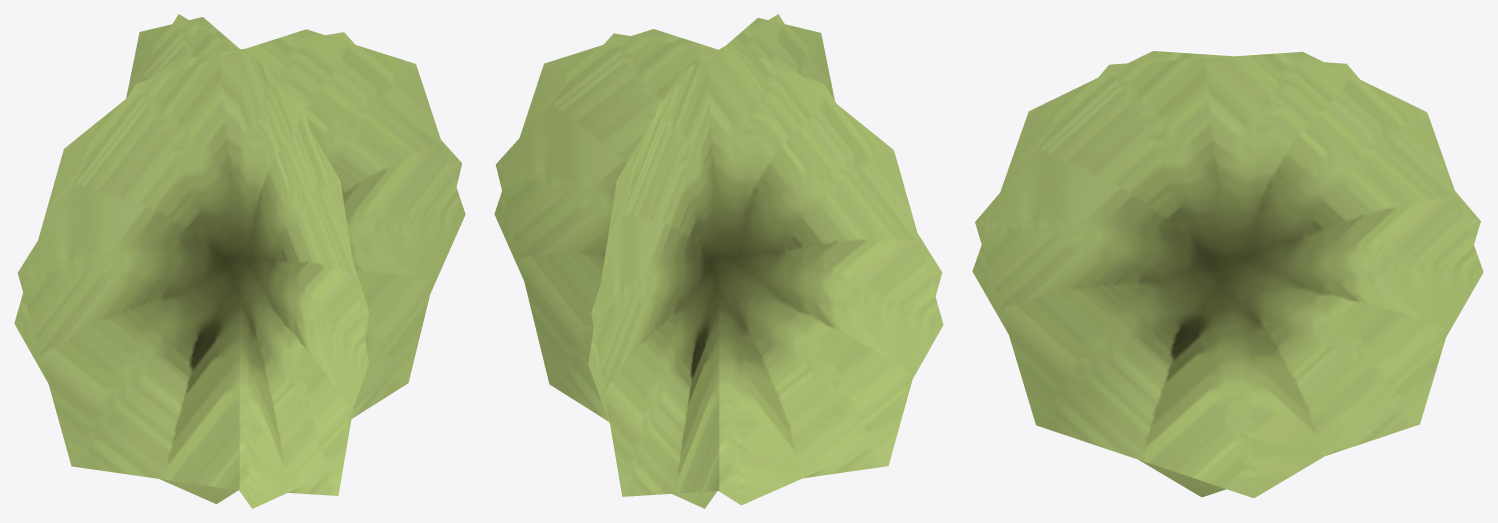
Rendered from HP3_weed022.fbx.
3 renders of one model, left to right at view 1: azimuth 30°, elevation 25°; view 2: azimuth 150°, elevation 25°; view 3: azimuth 270°, elevation 25°, orthographic.
Visible parts, largest first — view 1: HP3_weed022; view 2: HP3_weed022; view 3: HP3_weed022.
Boxes of the visible parts, x1=… form: HP3_weed022: x1=14, y1=14, x2=465, y2=508; HP3_weed022: x1=494, y1=14, x2=943, y2=508; HP3_weed022: x1=972, y1=51, x2=1483, y2=498.
Bounding box in the file's own units: 10 × 9.64 × 10.
